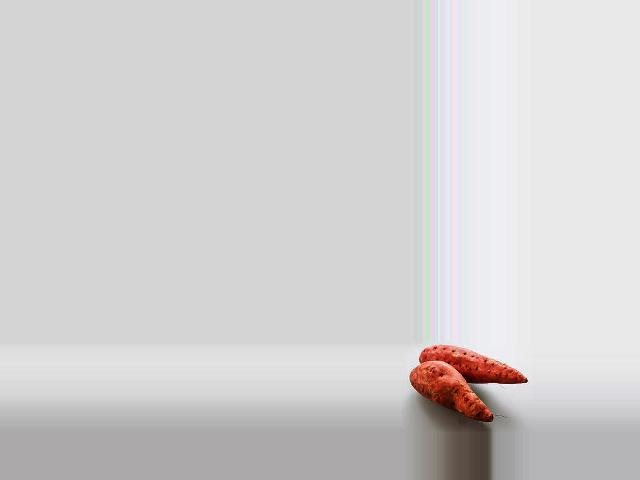sweet_potato: (419, 346, 520, 384)
